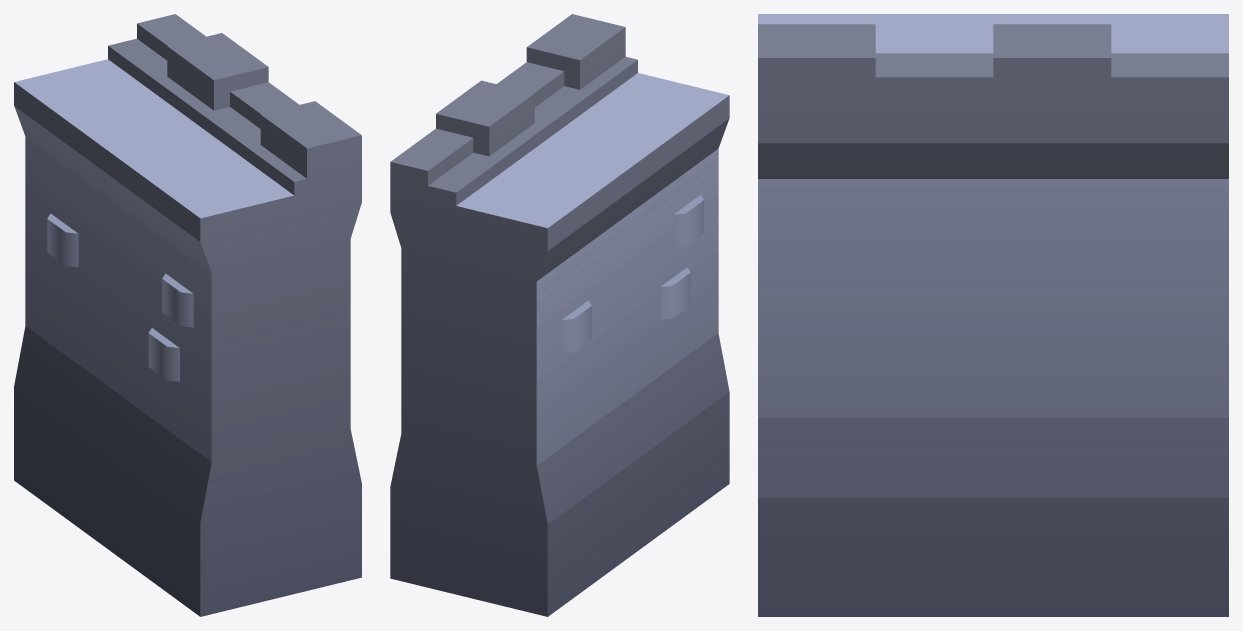
Rendered from wall-narrow.fbx.
3 renders of one model, left to right at view 1: azimuth 30°, elevation 25°; view 2: azimuth 150°, elevation 25°; view 3: azimuth 270°, elevation 25°, orthographic. The views are drawn at different scales.
Visible parts, largest first — view 1: wall-narrow; view 2: wall-narrow; view 3: wall-narrow.
Part boxes in pixels (x1,y1,x2,y2): wall-narrow: (14,14,361,616); wall-narrow: (390,14,729,616); wall-narrow: (758,14,1228,616).
Size of the model in its own units: 0.5 by 1 by 1.31.
